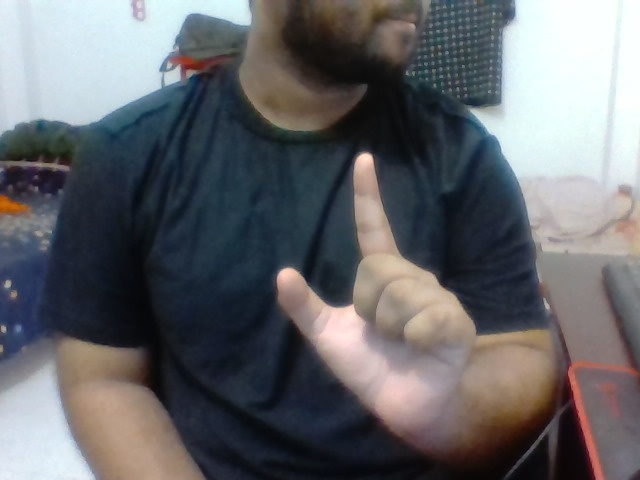J: (254, 145, 481, 419)
